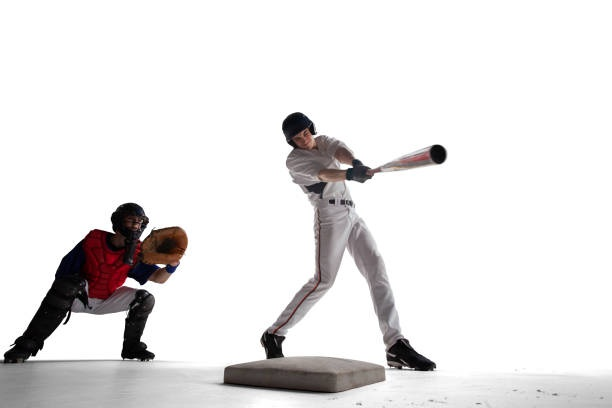bita: (358, 140, 452, 185)
